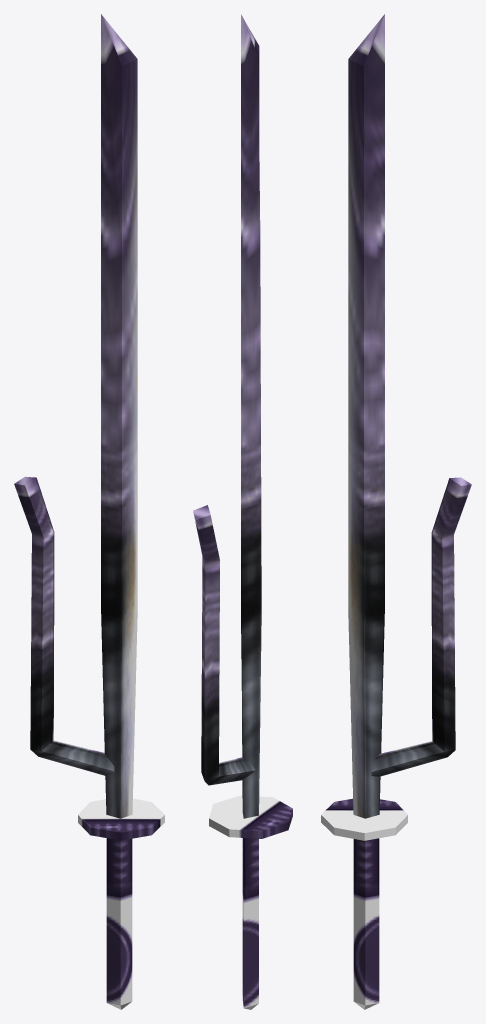
File: heavybladev03_6.obj
3 views of the same model, side by side, from view 1: azimuth 90°, elevation 25°; view 2: azimuth 150°, elevation 25°; view 3: azimuth 270°, elevation 25° (orthographic).
Parts seen in each view (by area): view 1: MDL_cw2hkt03_6; view 2: MDL_cw2hkt03_6; view 3: MDL_cw2hkt03_6.
Boxes of the visible parts, x1=… form: MDL_cw2hkt03_6: x1=14, y1=14, x2=164, y2=1009; MDL_cw2hkt03_6: x1=193, y1=14, x2=292, y2=1009; MDL_cw2hkt03_6: x1=321, y1=14, x2=471, y2=1009.
Bounding box in the file's own units: 0.1388 × 1.77 × 0.2425.
